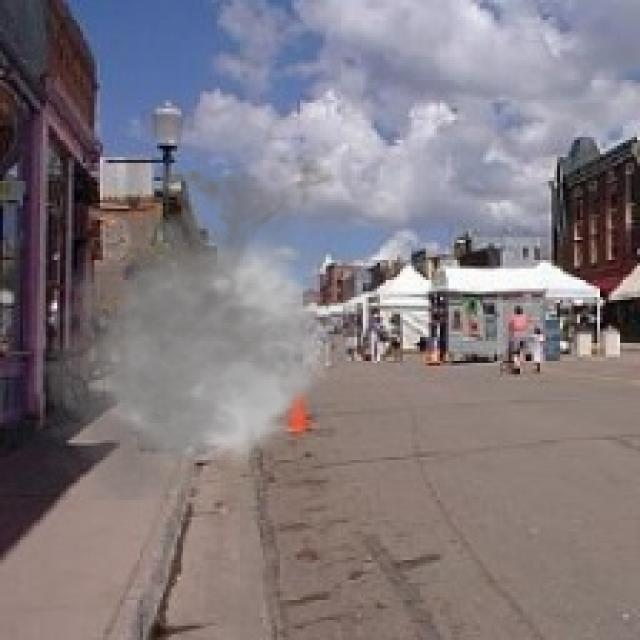smoke: (17, 140, 400, 520)
